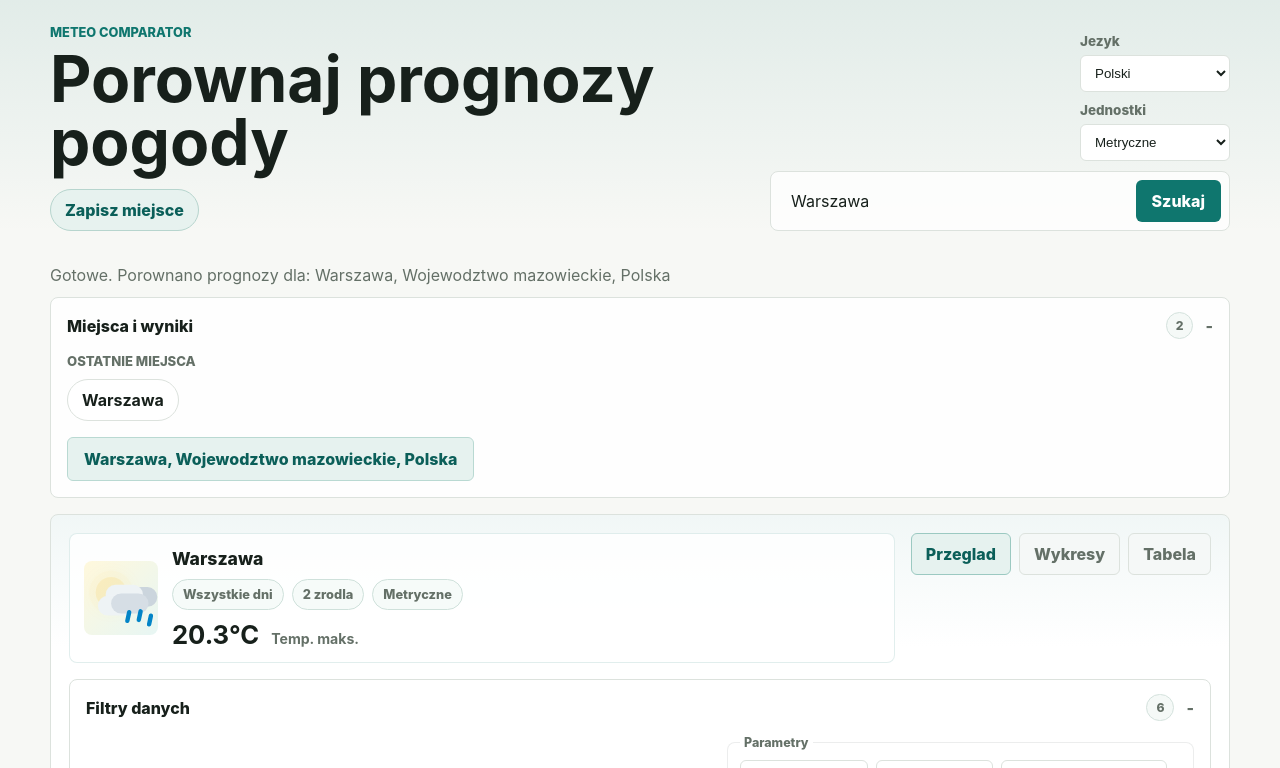
Test: App › switches between overview, charts and table views
Click the tab "Wykresy": click(1070, 554) [1019,533,1120,575]
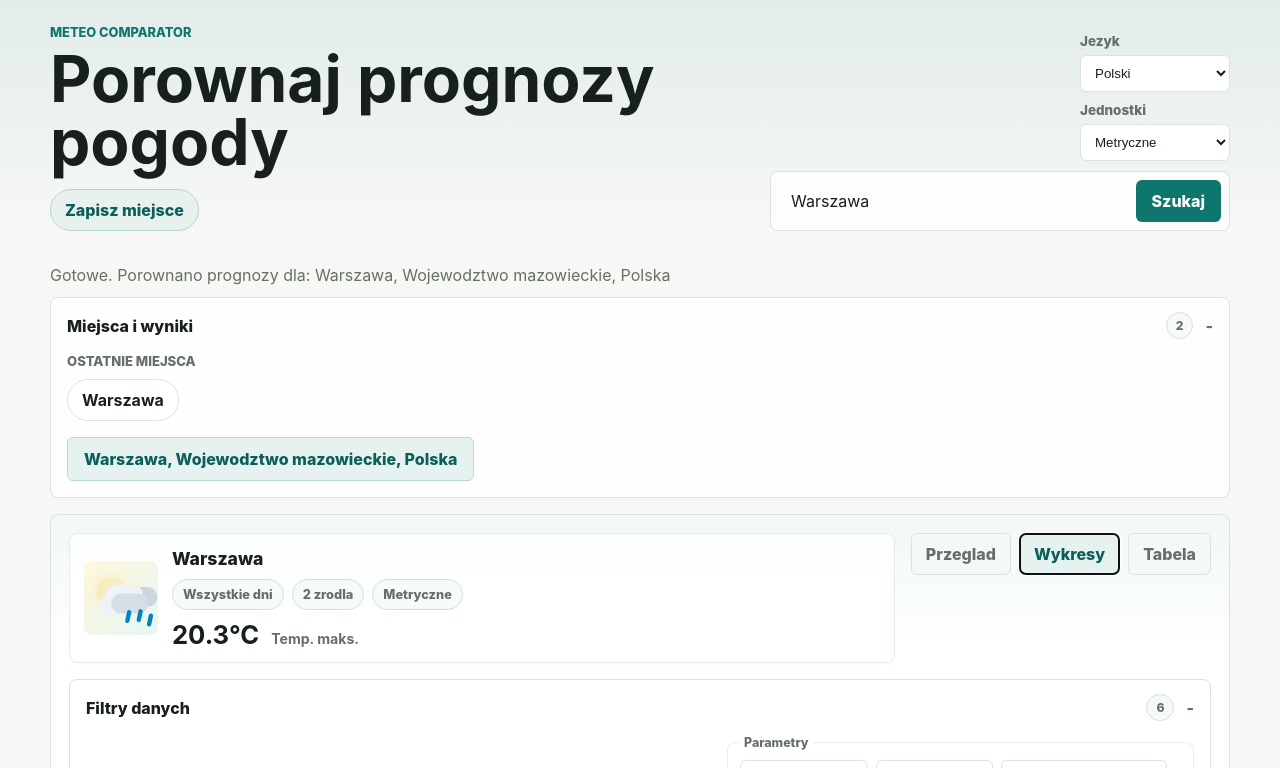
Click the tab "Tabela": click(1170, 554) [1128,533,1211,575]
(page scrolled)
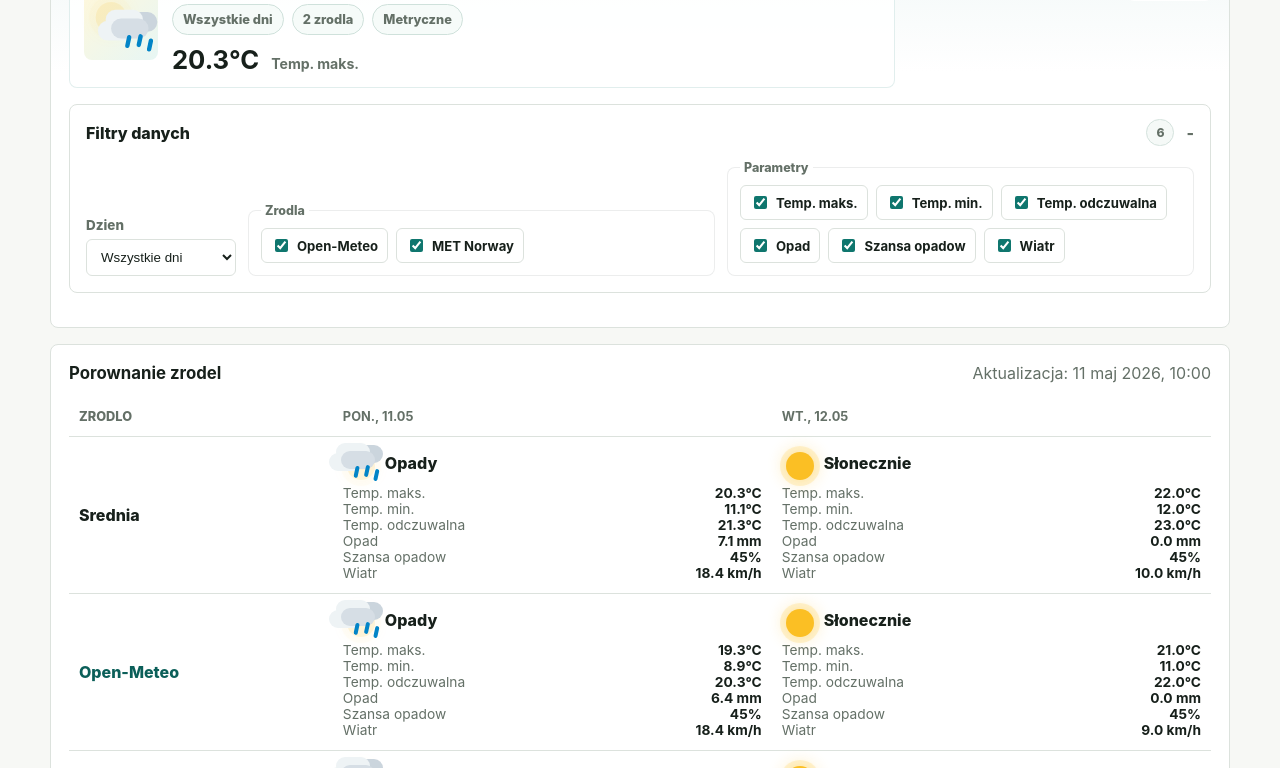
Result: the heading "Porownanie zrodel" is shown at [69,363,221,383]
